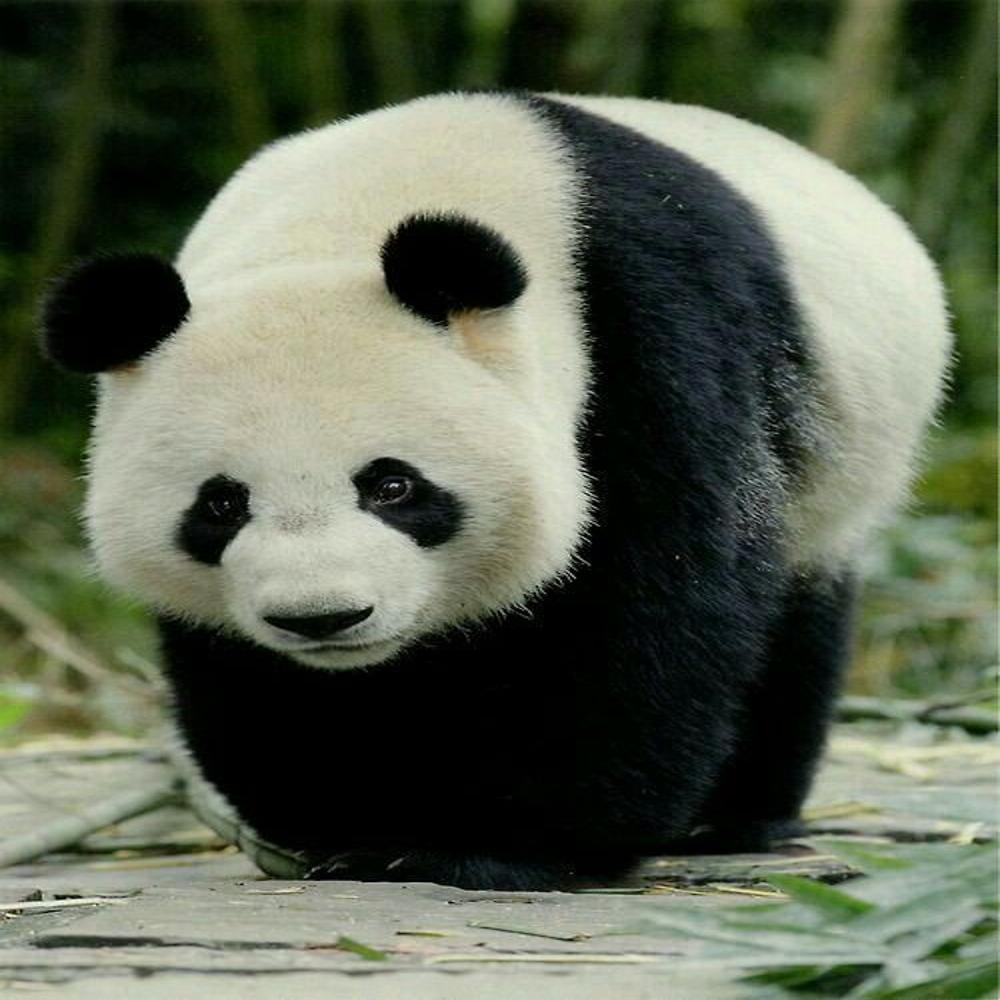panda: (40, 82, 959, 887)
